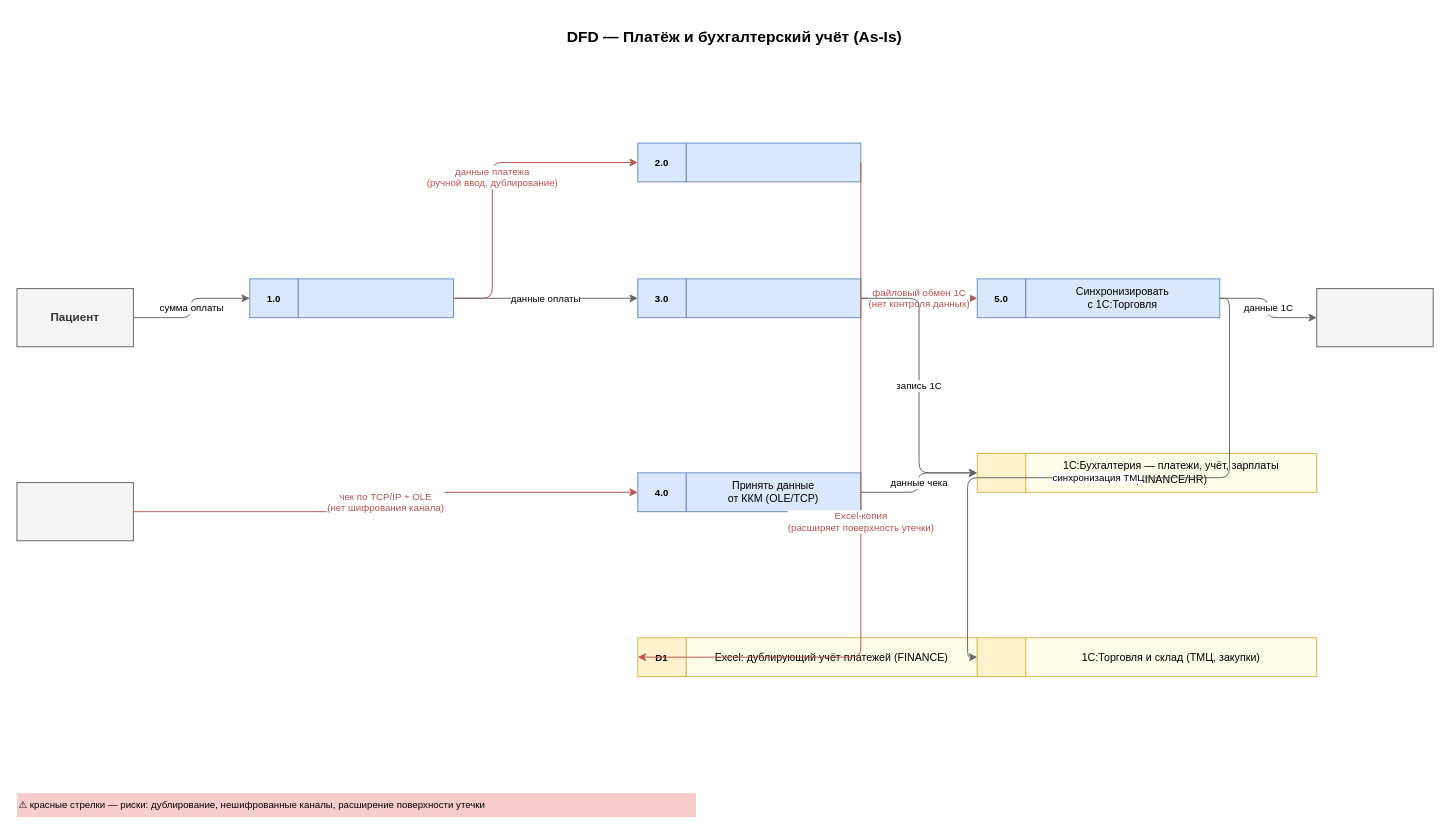
Some shapes in this 1450 by 833 pixel diagram are drawn without their labels. The box of each missing label's shape, as (x1, y1, x2, y2) in pixels:
D2: (976, 453, 1026, 492)
D3: (976, 637, 1026, 677)
Бухгалтер: (1316, 288, 1433, 347)
Дублировать запись в Excel (кассир): (685, 142, 861, 182)
ККМ: (16, 482, 133, 541)
Принять оплату (кассир): (297, 278, 453, 318)
Провести операцию в 1С:Бухгалтерия: (685, 278, 861, 318)
